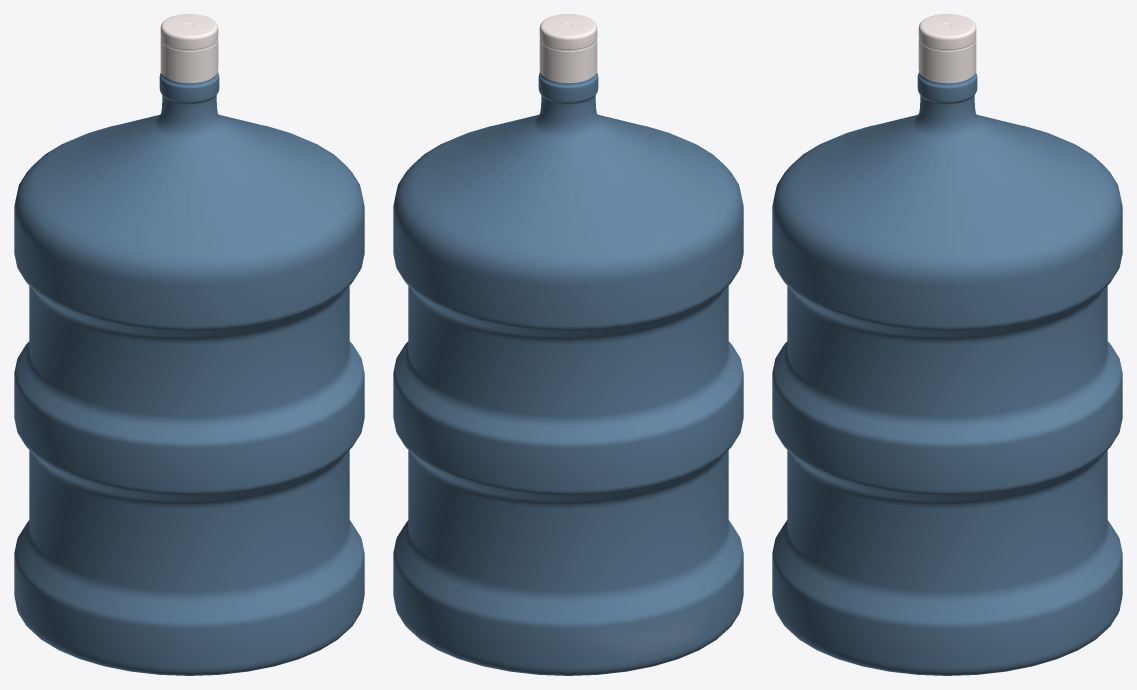
Rendered from BigWaterBottleEmpty.fbx.
3 views of the same model, side by side, from view 1: azimuth 30°, elevation 25°; view 2: azimuth 150°, elevation 25°; view 3: azimuth 270°, elevation 25° (orthographic).
Parts seen in each view (by area): view 1: BigWaterBottleEmpty; view 2: BigWaterBottleEmpty; view 3: BigWaterBottleEmpty.
Part boxes in pixels (x1,y1,x2,y2): BigWaterBottleEmpty: (14, 14, 364, 675); BigWaterBottleEmpty: (393, 14, 743, 675); BigWaterBottleEmpty: (772, 14, 1122, 675).
Bounding box in the file's own units: 0.2237 × 0.4089 × 0.2237.
